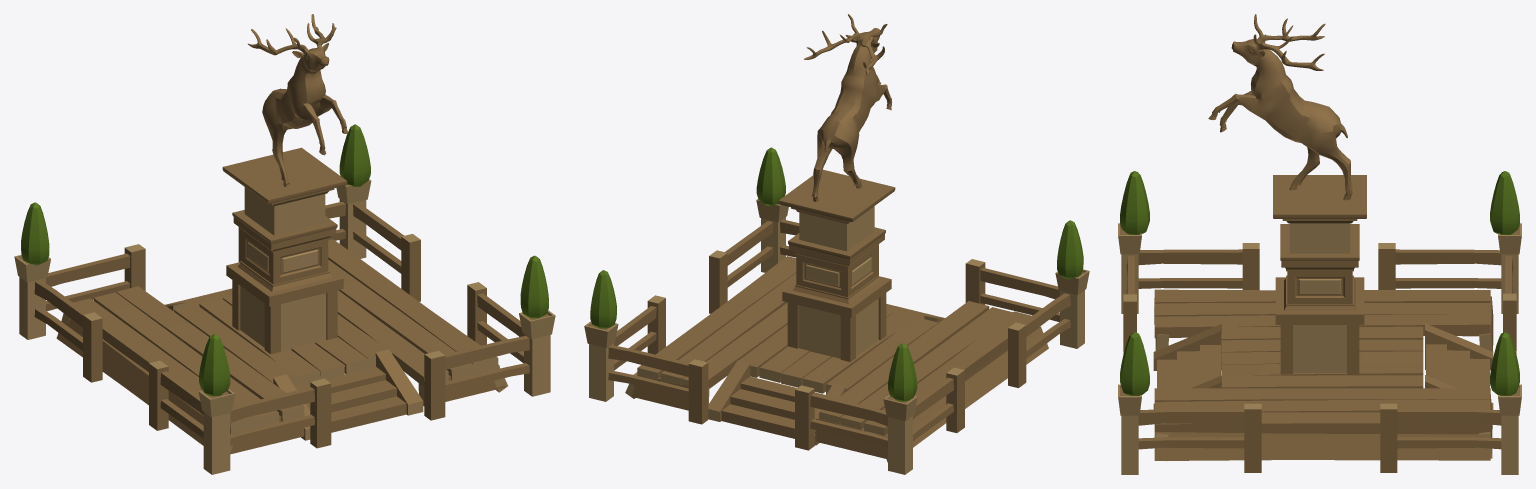
The model's file is Town Center-76GTkSh4KM.glb.
3 views of the same model, side by side, from view 1: azimuth 30°, elevation 25°; view 2: azimuth 150°, elevation 25°; view 3: azimuth 270°, elevation 25° (orthographic). The views are drawn at different scales.
Visible parts, largest first — view 1: TownCenter_FirstAge_Level3; view 2: TownCenter_FirstAge_Level3; view 3: TownCenter_FirstAge_Level3.
Boxes of the visible parts, x1,y1,x2,y2 form: TownCenter_FirstAge_Level3: (14, 14, 555, 474); TownCenter_FirstAge_Level3: (584, 14, 1089, 474); TownCenter_FirstAge_Level3: (1118, 14, 1521, 474).
Bounding box in the file's own units: 1.26 × 1.25 × 1.24.
